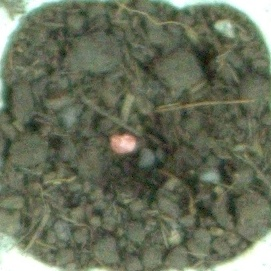chilli seed: (108, 132, 138, 154)
